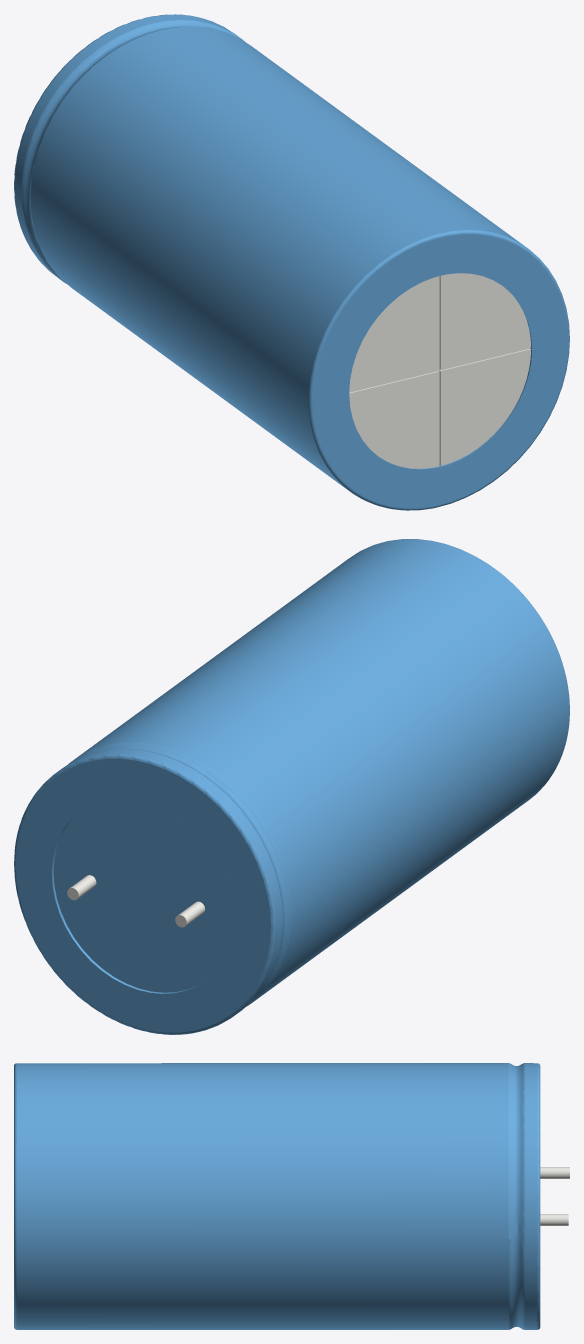
The model's file is C_Radial_D18.0mm_H35.5mm_P7.50mm.glb.
3 views of the same model, one above another, from view 1: azimuth 30°, elevation 25°; view 2: azimuth 150°, elevation 25°; view 3: azimuth 270°, elevation 25° (orthographic). The views are drawn at different scales.
Parts seen in each view (by area): view 1: Shape_IndexedFaceSet.012, Shape_IndexedFaceSet.014, Shape_IndexedFaceSet.018, Shape_IndexedFaceSet.027, Shape_IndexedFaceSet.021, Shape_IndexedFaceSet.024, Shape_IndexedFaceSet.013, Shape_IndexedFaceSet.008, Shape_IndexedFaceSet.010, Shape_IndexedFaceSet.009; view 2: Shape_IndexedFaceSet.012, Shape_IndexedFaceSet.005, Shape_IndexedFaceSet.002, Shape_IndexedFaceSet.007, Shape_IndexedFaceSet.008, Shape_IndexedFaceSet.010, Shape_IndexedFaceSet.011; view 3: Shape_IndexedFaceSet.012, Shape_IndexedFaceSet.008, Shape_IndexedFaceSet.010, Shape_IndexedFaceSet.009, Shape_IndexedFaceSet.011, Shape_IndexedFaceSet.007, Shape_IndexedFaceSet.013, Shape_IndexedFaceSet.004, Shape_IndexedFaceSet.001.
Part boxes in pixels (x1=…): Shape_IndexedFaceSet.012: x1=30, y1=26, x2=526, y2=489; Shape_IndexedFaceSet.014: x1=313, y1=234, x2=568, y2=508; Shape_IndexedFaceSet.018: x1=440, y1=349, x2=531, y2=465; Shape_IndexedFaceSet.027: x1=440, y1=273, x2=531, y2=369; Shape_IndexedFaceSet.021: x1=349, y1=371, x2=438, y2=468; Shape_IndexedFaceSet.024: x1=349, y1=276, x2=438, y2=391; Shape_IndexedFaceSet.013: x1=308, y1=230, x2=569, y2=510; Shape_IndexedFaceSet.008: x1=14, y1=14, x2=239, y2=280; Shape_IndexedFaceSet.010: x1=24, y1=22, x2=230, y2=273; Shape_IndexedFaceSet.009: x1=21, y1=20, x2=244, y2=283; Shape_IndexedFaceSet.012: x1=73, y1=539, x2=569, y2=1002; Shape_IndexedFaceSet.005: x1=15, y1=758, x2=270, y2=1032; Shape_IndexedFaceSet.002: x1=53, y1=797, x2=234, y2=992; Shape_IndexedFaceSet.007: x1=14, y1=754, x2=275, y2=1034; Shape_IndexedFaceSet.008: x1=58, y1=749, x2=282, y2=1016; Shape_IndexedFaceSet.010: x1=78, y1=745, x2=288, y2=996; Shape_IndexedFaceSet.011: x1=69, y1=742, x2=291, y2=1006; Shape_IndexedFaceSet.012: x1=17, y1=1063, x2=508, y2=1329; Shape_IndexedFaceSet.008: x1=524, y1=1063, x2=537, y2=1329; Shape_IndexedFaceSet.010: x1=511, y1=1064, x2=521, y2=1328; Shape_IndexedFaceSet.009: x1=521, y1=1063, x2=524, y2=1329; Shape_IndexedFaceSet.011: x1=508, y1=1063, x2=511, y2=1329; Shape_IndexedFaceSet.007: x1=537, y1=1063, x2=540, y2=1329; Shape_IndexedFaceSet.013: x1=14, y1=1063, x2=16, y2=1329; Shape_IndexedFaceSet.004: x1=540, y1=1167, x2=569, y2=1178; Shape_IndexedFaceSet.001: x1=540, y1=1214, x2=568, y2=1225.
Size of the model in its own units: 7.09 by 7.09 by 14.76.
